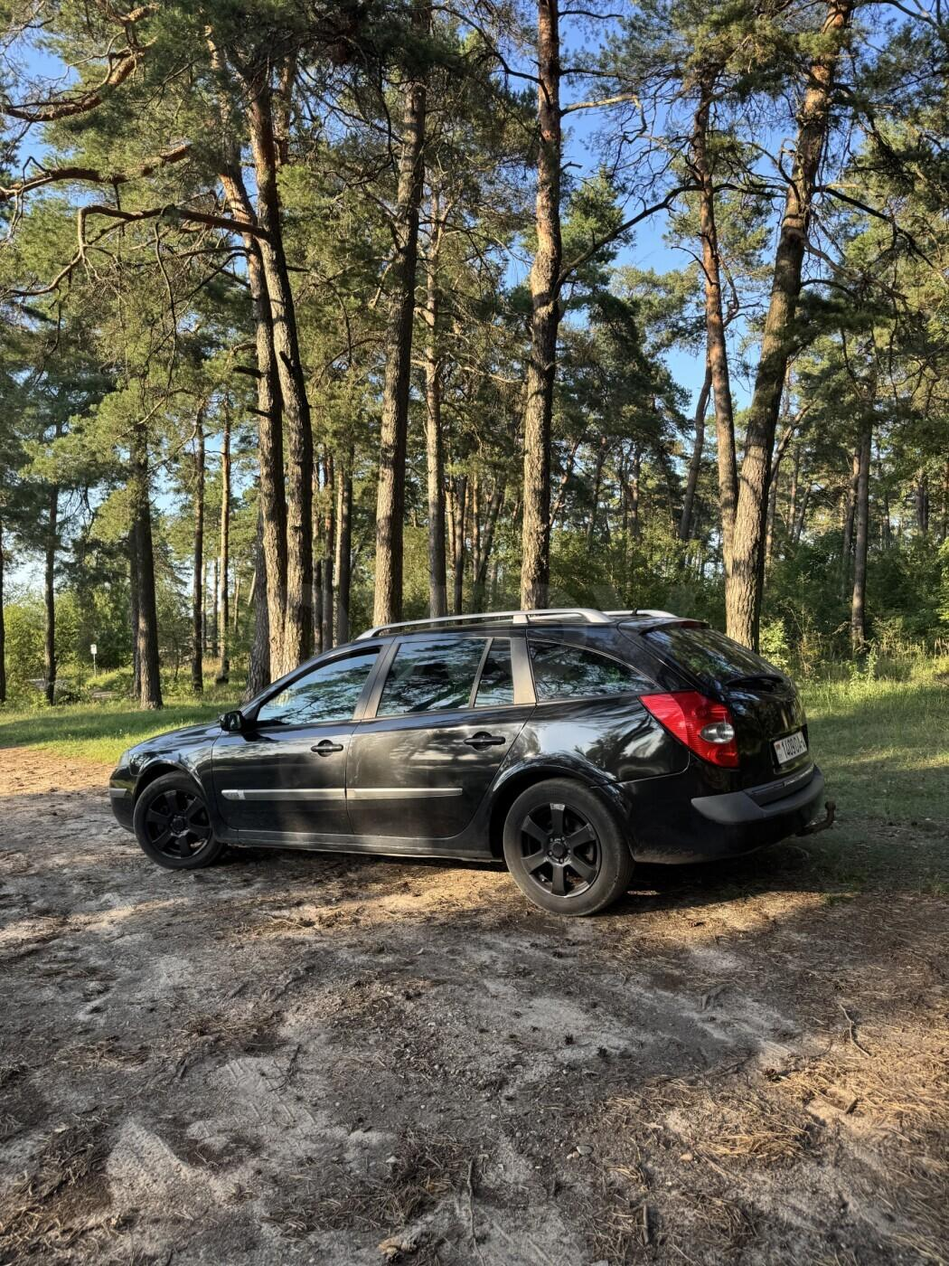Laguna_2005-2007: (107, 620, 842, 912)
